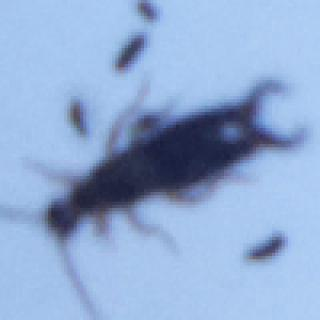earwig: (2, 78, 307, 320)
